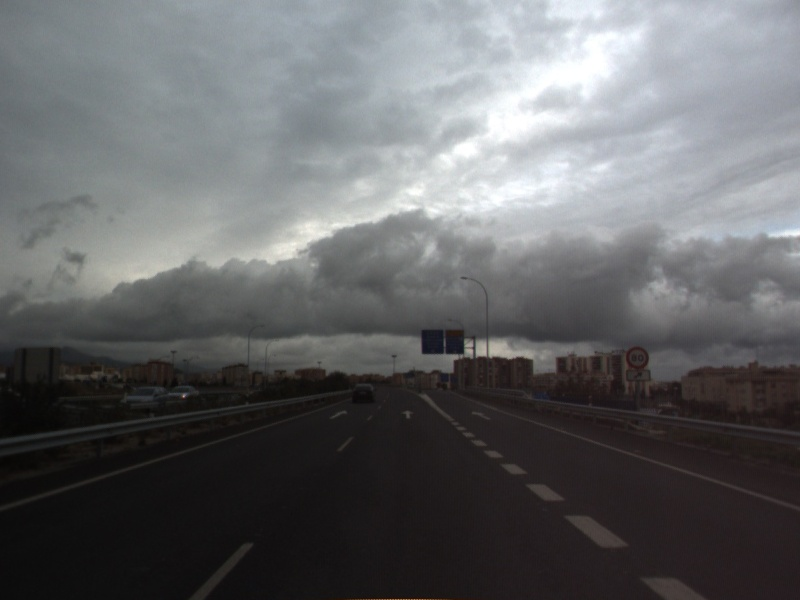STRAIGHT: (469, 409, 493, 422), (326, 408, 350, 421), (399, 408, 417, 420)
